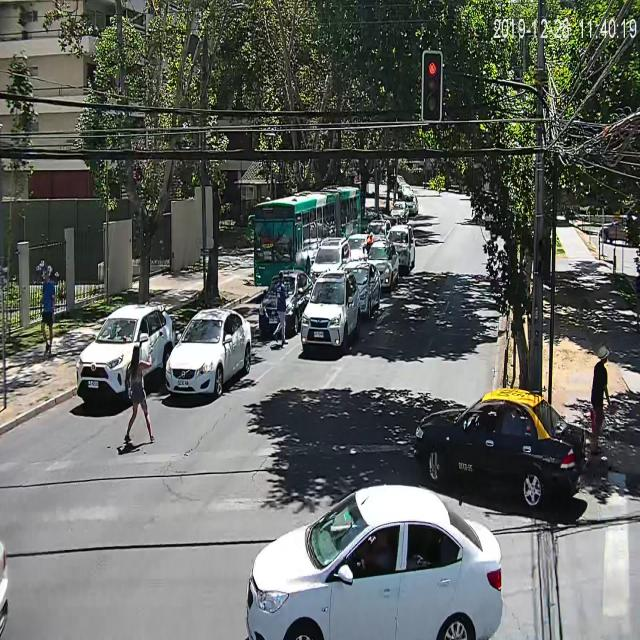AB: (251, 181, 363, 292)
